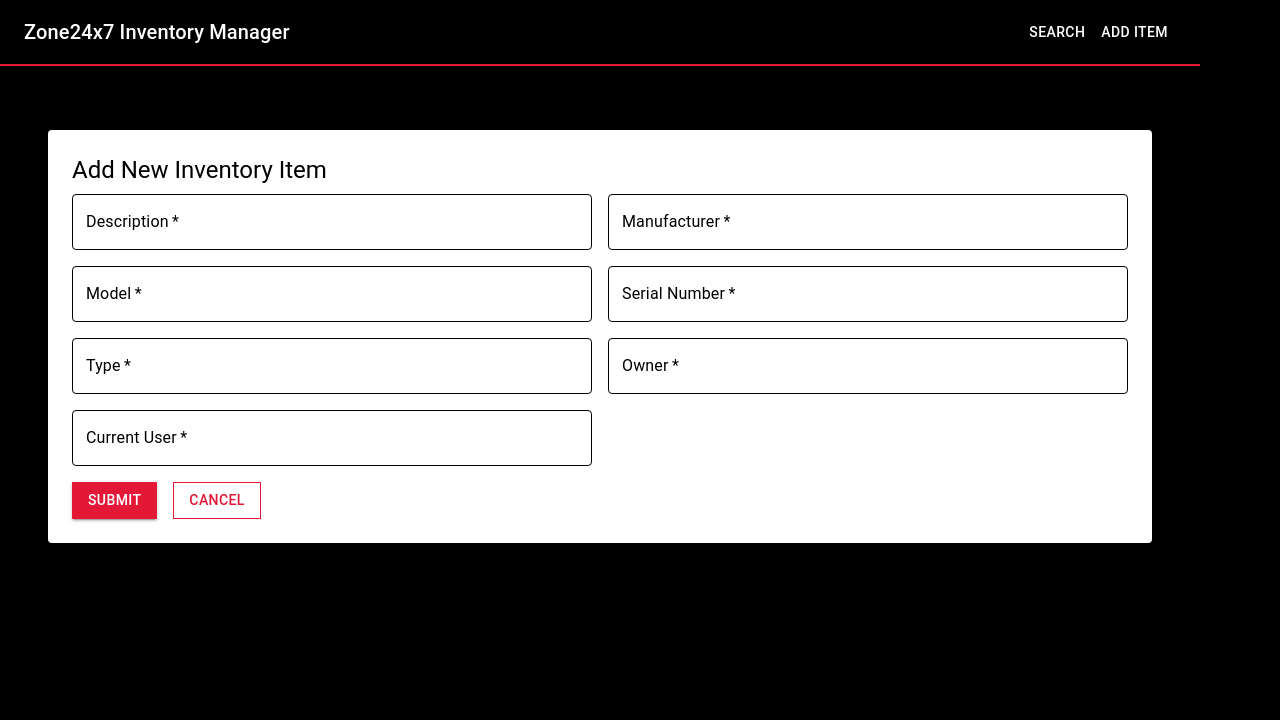
Test case: App Component › navigates to Search page when clicking Search link
The image size is (1280, 720).
Click the link "Search" at (1057, 32), box left=1029, top=24, right=1085, bottom=40
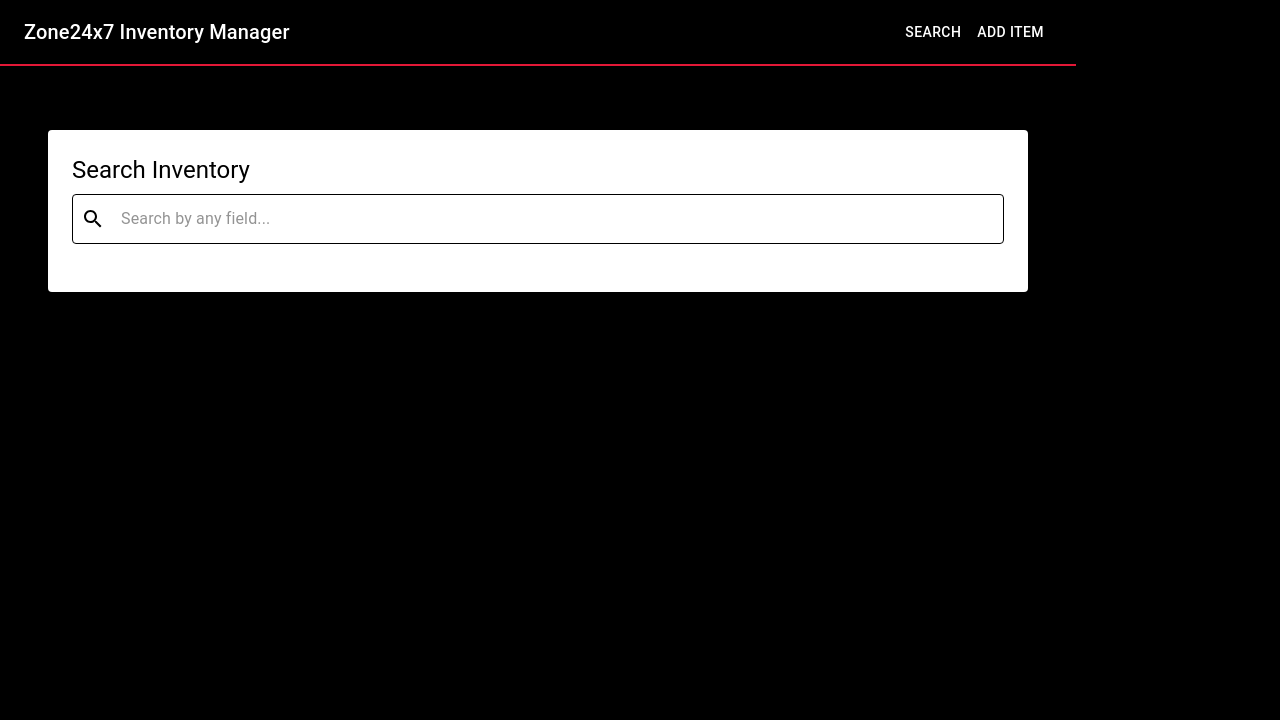
Expected: the heading "Search Inventory" is shown, left=72, top=156, right=250, bottom=184
